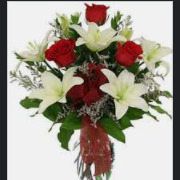RedRose: (44, 37, 77, 66), (113, 40, 143, 67), (82, 2, 113, 28)
